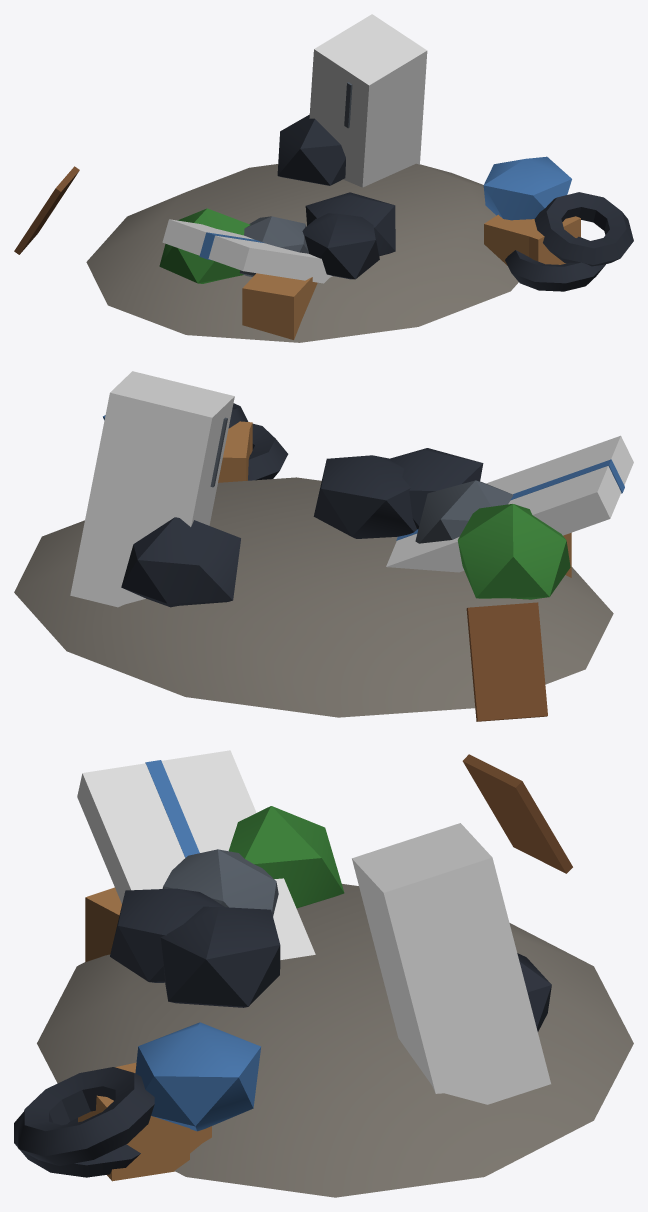
The model's file is dump_pile_broken.gltf.
3 views of the same model, one above another, from view 1: azimuth 30°, elevation 25°; view 2: azimuth 150°, elevation 25°; view 3: azimuth 270°, elevation 25° (orthographic). The views are drawn at different scales.
Parts seen in each view (by area): view 1: dump_pile_broken; view 2: dump_pile_broken; view 3: dump_pile_broken.
Boxes of the visible parts, x1,y1,x2,y2 form: dump_pile_broken: (14,14,633,342); dump_pile_broken: (14,371,633,721); dump_pile_broken: (14,750,633,1197).
Size of the model in its own units: 4.9 by 1.76 by 3.74.
